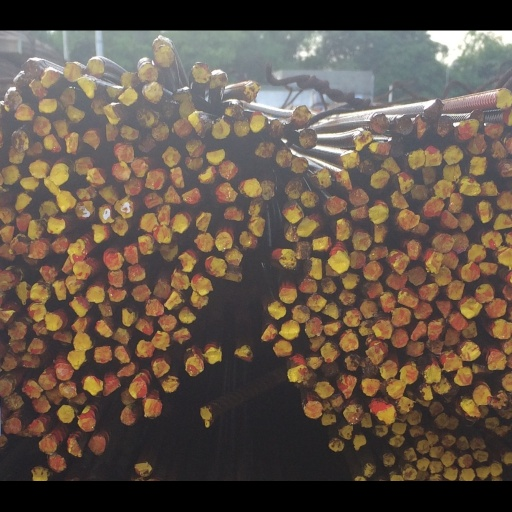dipstick: (387, 248, 408, 276), (325, 252, 348, 277), (154, 15, 175, 42), (68, 301, 92, 324), (141, 57, 162, 82), (205, 256, 226, 281), (475, 193, 496, 218), (49, 151, 69, 177), (56, 181, 76, 207), (329, 215, 351, 238), (4, 64, 22, 92), (135, 88, 157, 110), (460, 304, 482, 326), (480, 226, 502, 248), (216, 173, 237, 196), (385, 273, 408, 294), (432, 230, 453, 253), (171, 206, 191, 230), (76, 53, 95, 78), (30, 288, 52, 309), (279, 329, 300, 351), (342, 425, 363, 447), (484, 304, 505, 326), (161, 131, 181, 154), (104, 83, 124, 106), (211, 100, 231, 123), (399, 203, 419, 226), (423, 188, 443, 211), (467, 117, 487, 140), (492, 327, 512, 350), (364, 261, 383, 285), (449, 228, 468, 252), (427, 251, 445, 276), (414, 96, 431, 122), (282, 198, 303, 219), (87, 155, 107, 177), (27, 239, 49, 259), (194, 229, 214, 251), (111, 150, 131, 172), (173, 100, 193, 122), (280, 248, 300, 270), (459, 100, 479, 122), (472, 403, 492, 425), (143, 418, 162, 441), (115, 189, 134, 212), (298, 111, 317, 134), (444, 129, 463, 152), (293, 84, 311, 108), (14, 46, 31, 71), (7, 329, 27, 350), (22, 397, 43, 417), (152, 221, 172, 242), (99, 175, 119, 196), (114, 128, 134, 149), (287, 380, 308, 400), (320, 355, 340, 376), (326, 188, 347, 208), (369, 198, 389, 219), (362, 285, 383, 305), (434, 169, 455, 189), (41, 42, 60, 64), (85, 31, 104, 53), (1, 152, 20, 174), (84, 392, 103, 414), (68, 362, 87, 384), (185, 370, 204, 392), (192, 36, 211, 58), (285, 169, 304, 191), (339, 343, 358, 365), (370, 158, 389, 180), (391, 314, 410, 336), (398, 293, 417, 315), (33, 97, 51, 120), (10, 114, 28, 137), (15, 184, 33, 207), (200, 427, 218, 450), (152, 282, 170, 305), (305, 325, 323, 348), (447, 283, 465, 306), (436, 96, 454, 119), (11, 231, 28, 255), (168, 155, 185, 179), (249, 210, 266, 234), (397, 160, 414, 184), (107, 272, 127, 292), (185, 123, 205, 143), (386, 397, 406, 417), (418, 287, 438, 307), (22, 32, 41, 53), (28, 147, 49, 166), (73, 143, 92, 164), (56, 425, 75, 446), (198, 154, 217, 175), (291, 311, 310, 332), (219, 148, 238, 169), (293, 239, 312, 260), (307, 298, 326, 319), (361, 394, 380, 415), (373, 329, 392, 350), (442, 203, 461, 224), (27, 215, 45, 237), (88, 461, 106, 483), (195, 279, 213, 301), (140, 207, 158, 229), (313, 156, 331, 178), (353, 229, 371, 251), (408, 267, 426, 289), (405, 238, 423, 260), (462, 263, 480, 285), (488, 364, 506, 386), (408, 135, 425, 158), (425, 131, 442, 154), (65, 85, 84, 105), (39, 193, 58, 213), (31, 414, 50, 434), (134, 352, 154, 371), (172, 336, 191, 356), (131, 288, 150, 308), (127, 265, 146, 285), (190, 295, 209, 315), (182, 177, 201, 197), (145, 160, 164, 180), (303, 420, 322, 440), (239, 227, 258, 247), (314, 398, 334, 417), (341, 274, 360, 294), (413, 307, 432, 327), (47, 211, 65, 232), (50, 232, 68, 253), (110, 211, 128, 232), (48, 481, 66, 502), (268, 307, 286, 328), (243, 167, 261, 188), (354, 115, 372, 136), (399, 380, 417, 401), (434, 268, 452, 289), (475, 288, 493, 309), (461, 354, 479, 375), (152, 341, 169, 363), (137, 232, 154, 254), (152, 103, 169, 125), (396, 96, 413, 118), (65, 115, 81, 138), (15, 206, 31, 229), (260, 169, 276, 192), (496, 65, 512, 88), (128, 398, 147, 417), (145, 305, 164, 324), (105, 252, 124, 271), (159, 241, 178, 260), (171, 275, 190, 294), (120, 106, 139, 125), (395, 416, 414, 435), (442, 152, 461, 171), (30, 55, 48, 75), (14, 84, 34, 102), (82, 114, 100, 134), (76, 193, 94, 213), (65, 279, 83, 299), (27, 309, 45, 329), (38, 461, 56, 481), (158, 322, 176, 342), (178, 253, 196, 273), (143, 183, 163, 201), (341, 136, 359, 156), (349, 198, 367, 218), (379, 375, 397, 395), (468, 242, 486, 262), (381, 143, 399, 163), (484, 105, 504, 123), (63, 36, 80, 57), (8, 130, 25, 151), (76, 176, 97, 193), (99, 197, 116, 218), (131, 146, 148, 167), (215, 229, 232, 250), (210, 44, 227, 65), (371, 94, 388, 115), (360, 307, 377, 328), (469, 143, 486, 164), (60, 63, 76, 85), (196, 206, 211, 229), (245, 57, 260, 80), (497, 181, 512, 204), (71, 325, 90, 343), (86, 290, 104, 309), (95, 329, 113, 348), (4, 412, 23, 430), (37, 390, 56, 408), (107, 289, 126, 307), (179, 80, 197, 99), (273, 352, 292, 370), (225, 248, 243, 267), (224, 198, 243, 216), (206, 133, 224, 152), (256, 126, 275, 144), (301, 182, 319, 201), (343, 317, 361, 336), (391, 182, 409, 201), (454, 383, 472, 402), (52, 102, 69, 122), (73, 262, 90, 282), (164, 177, 181, 197), (140, 38, 157, 58), (171, 64, 191, 81), (491, 125, 508, 145), (121, 315, 137, 336), (261, 332, 277, 353), (379, 298, 395, 319), (59, 400, 77, 418), (114, 338, 132, 356), (178, 314, 196, 332), (121, 47, 139, 65), (343, 367, 361, 385), (338, 295, 356, 313), (39, 267, 56, 286), (21, 367, 40, 384), (28, 441, 45, 460), (94, 358, 111, 377), (152, 375, 169, 394), (136, 327, 153, 346), (124, 167, 141, 186), (234, 358, 253, 375), (233, 100, 250, 119), (249, 96, 266, 115), (322, 308, 339, 327), (349, 180, 368, 197), (4, 439, 20, 459), (66, 464, 82, 484), (2, 365, 17, 386), (392, 339, 407, 360), (427, 330, 442, 351), (44, 118, 61, 136), (45, 321, 62, 339), (27, 350, 45, 367), (31, 495, 49, 512), (279, 292, 296, 310), (225, 84, 243, 101), (291, 143, 308, 161), (299, 281, 317, 298), (439, 478, 456, 496), (405, 352, 423, 369), (417, 401, 434, 419), (494, 208, 512, 225), (118, 377, 134, 396), (162, 392, 178, 411), (184, 143, 203, 159), (451, 321, 467, 340), (270, 101, 285, 121), (424, 380, 439, 400), (56, 380, 73, 397), (120, 430, 137, 447), (444, 370, 461, 387), (139, 119, 155, 137), (322, 329, 338, 347), (320, 280, 336, 298), (433, 434, 449, 452), (92, 76, 107, 95), (53, 340, 72, 355), (114, 358, 129, 377), (350, 251, 365, 270), (0, 222, 14, 242), (123, 244, 137, 264), (39, 77, 56, 93), (78, 440, 95, 456), (275, 136, 291, 153), (328, 461, 344, 478), (20, 165, 38, 180), (105, 105, 118, 125), (205, 363, 221, 379), (338, 448, 354, 464), (474, 494, 490, 510), (135, 491, 152, 506), (98, 307, 112, 325), (9, 350, 25, 365), (443, 494, 458, 510), (459, 497, 475, 512), (458, 481, 473, 497), (469, 462, 485, 477), (440, 458, 455, 474), (401, 496, 416, 511), (428, 488, 443, 503), (372, 447, 388, 461), (388, 459, 404, 473), (403, 473, 417, 489), (415, 484, 429, 500), (416, 464, 430, 480), (455, 460, 469, 476), (364, 490, 377, 507), (392, 444, 406, 459), (429, 421, 443, 436), (409, 448, 425, 461), (409, 431, 421, 448), (0, 396, 10, 416), (429, 472, 443, 486), (474, 476, 488, 490), (381, 480, 394, 495), (425, 455, 438, 470), (22, 254, 37, 266), (490, 491, 502, 506), (31, 126, 43, 139), (354, 460, 365, 471)
